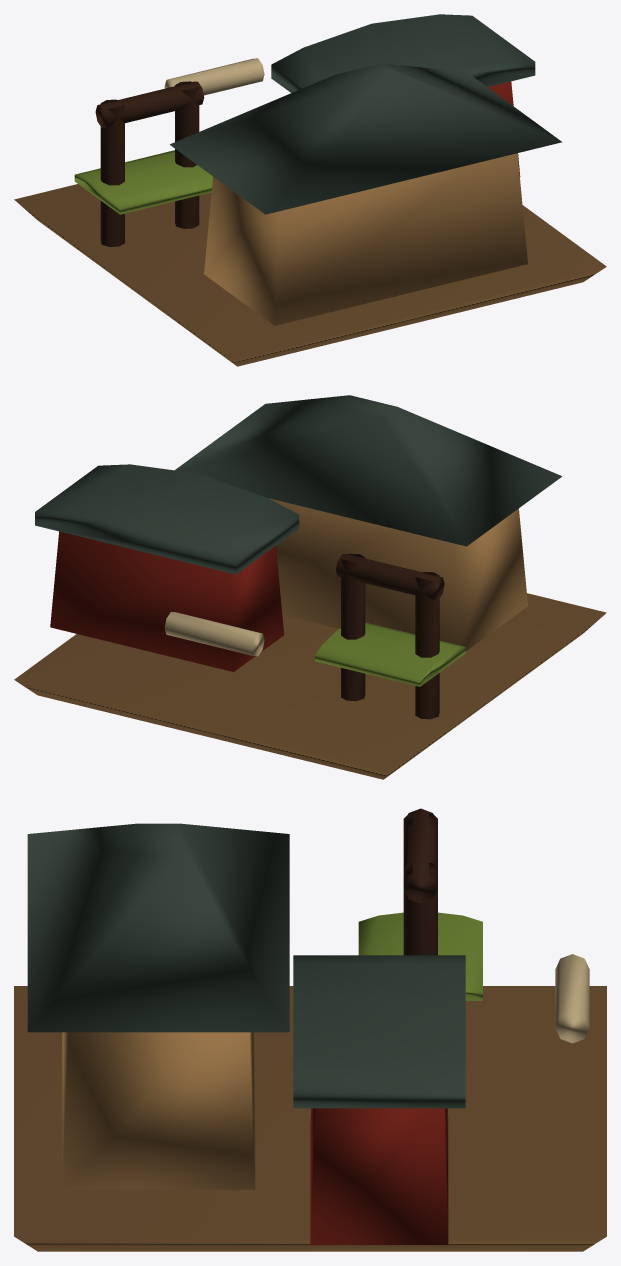
File: R45_HAN_LUOYANG_CLINIC_HERBAL_COURTYARD_A.fbx
3 views of the same model, one above another, from view 1: azimuth 30°, elevation 25°; view 2: azimuth 150°, elevation 25°; view 3: azimuth 270°, elevation 25° (orthographic). The views are drawn at different scales.
Parts seen in each view (by area): view 1: hall, hall_roof, yard, dispensary_roof, herb_tray, herb_rack_e, herb_rack_beam, herb_rack_w, sign; view 2: yard, hall_roof, hall, dispensary, dispensary_roof, herb_tray, herb_rack_e, sign, herb_rack_w, herb_rack_beam; view 3: yard, hall_roof, hall, dispensary_roof, dispensary, herb_tray, sign, herb_rack_beam, herb_rack_w.
Boxes of the visible parts, x1,y1,x2,y2 form: hall: (204,153,527,325); hall_roof: (170,63,562,214); yard: (14,184,606,366); dispensary_roof: (271,14,535,92); herb_tray: (74,150,212,214); herb_rack_e: (100,99,124,246); herb_rack_beam: (95,81,204,127); herb_rack_w: (175,81,199,228); sign: (164,58,264,95); yard: (14,593,606,779); hall_roof: (175,395,561,546); hall: (268,498,527,651); dispensary: (50,531,284,671); dispensary_roof: (35,464,299,574); herb_tray: (315,622,465,686); herb_rack_e: (415,571,439,719); sign: (164,612,264,656); herb_rack_w: (341,553,365,701); herb_rack_beam: (336,554,444,600); yard: (14,986,606,1251); hall_roof: (27,823,289,1032); hall: (62,1032,255,1189); dispensary_roof: (293,955,465,1108); dispensary: (310,1108,448,1244); herb_tray: (358,912,482,1000); sign: (555,954,589,1043); herb_rack_beam: (403,808,437,903); herb_rack_w: (403,862,437,955).
Bounding box in the file's own units: 93 × 47.5 × 86.
